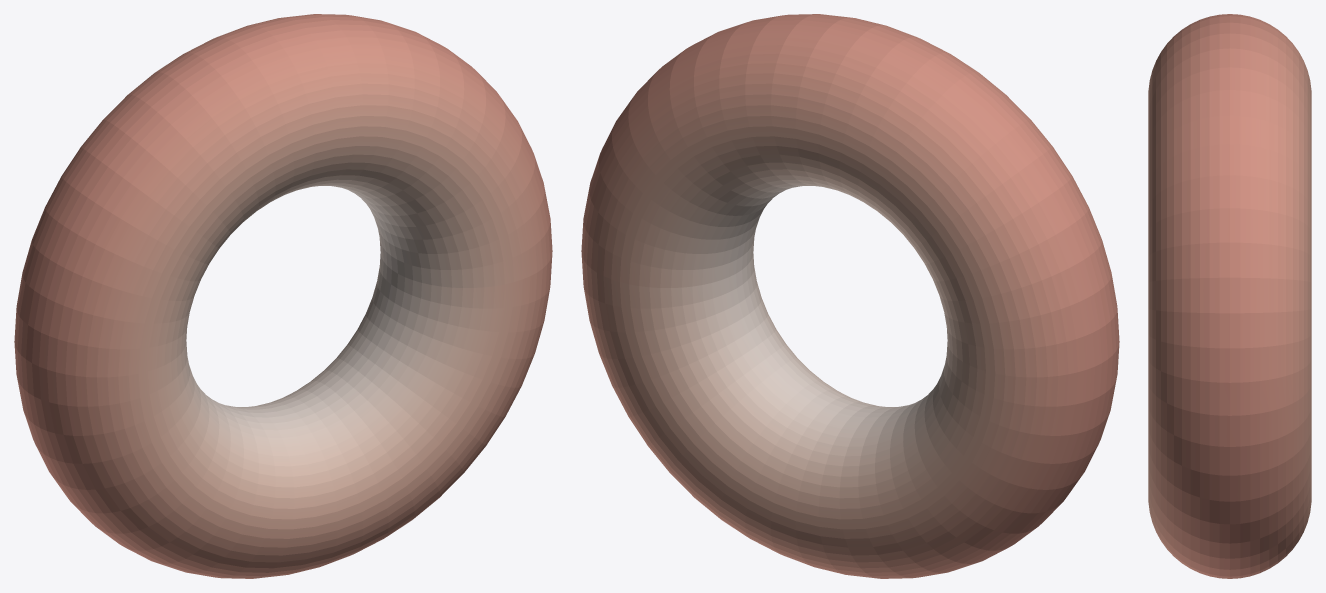
3 views of the same model, side by side, from view 1: azimuth 30°, elevation 25°; view 2: azimuth 150°, elevation 25°; view 3: azimuth 270°, elevation 25° (orthographic). The views are drawn at different scales.
Parts seen in each view (by area): view 1: world; view 2: world; view 3: world.
Part boxes in pixels (x1,y1,x2,y2): world: [14, 14, 552, 578]; world: [581, 14, 1119, 578]; world: [1148, 14, 1311, 578].
Size of the model in its own units: 27.2 by 27.15 by 7.85.
